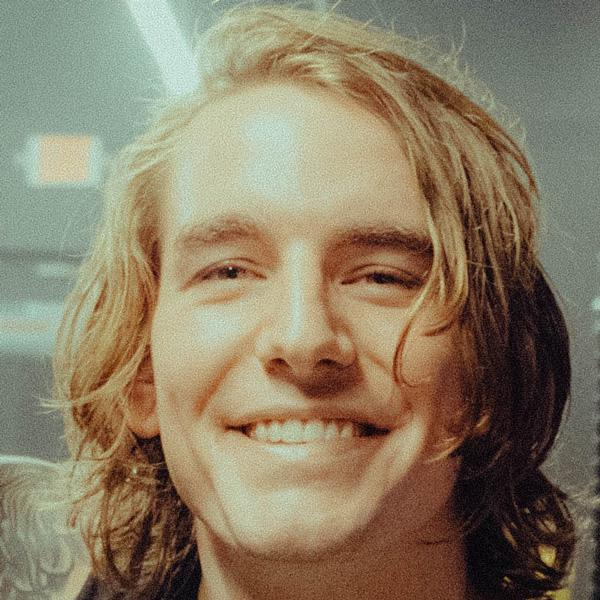Eyes: (337, 249, 427, 305), (183, 242, 271, 298)
